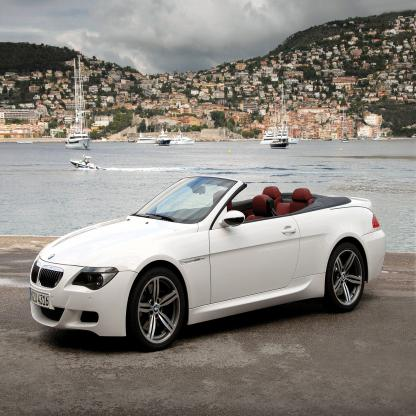Vehicle: (31, 172, 390, 351)
